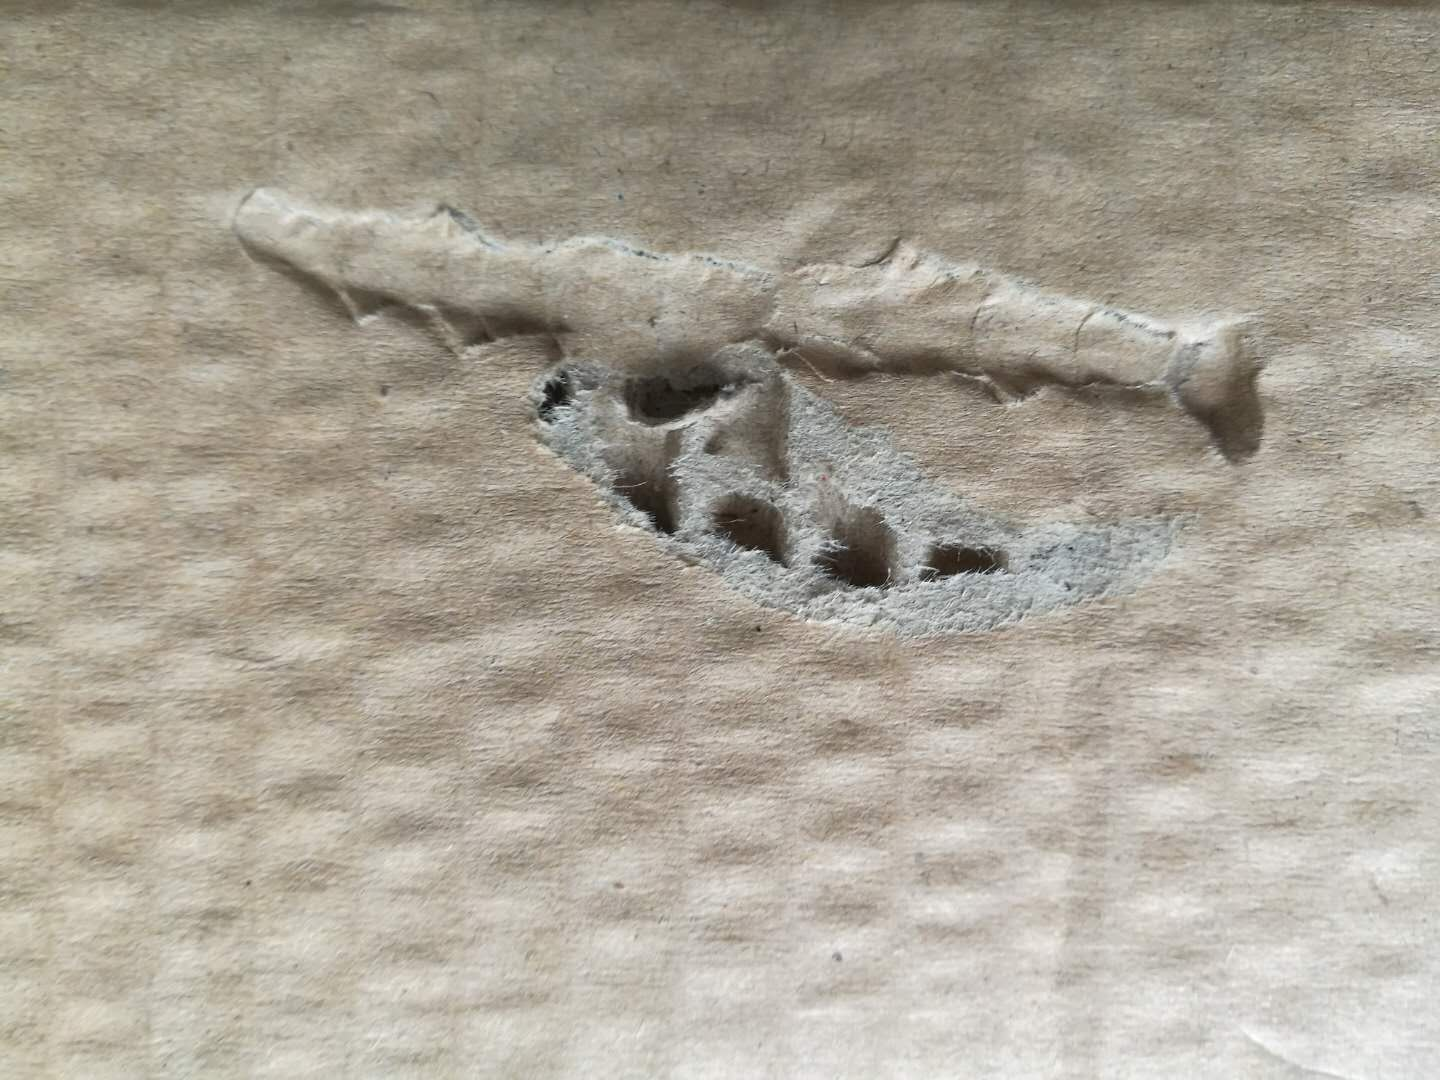defect: (213, 146, 1335, 704)
